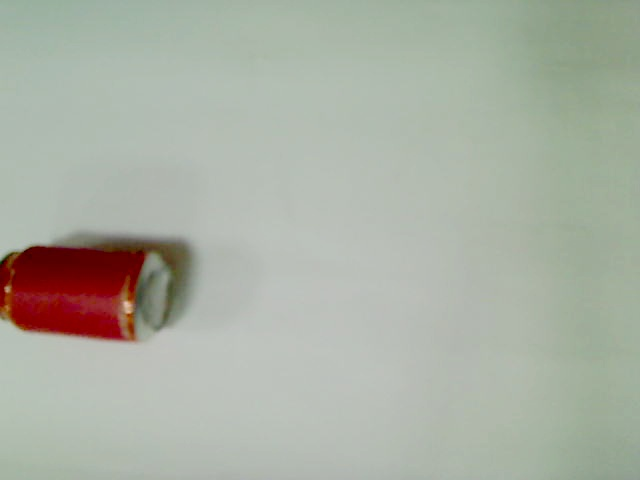can: (1, 243, 174, 345)
